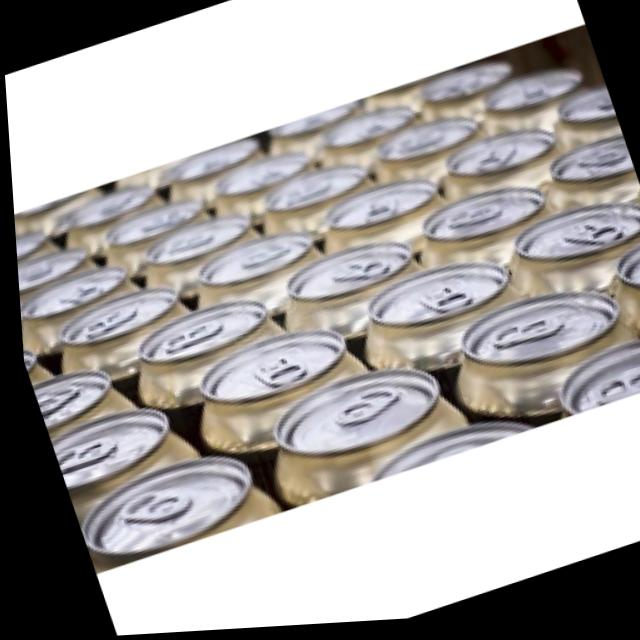aluminum_soda_cans: (256, 357, 455, 498), (60, 439, 267, 572), (434, 279, 631, 402), (176, 320, 365, 425), (24, 357, 113, 432)
